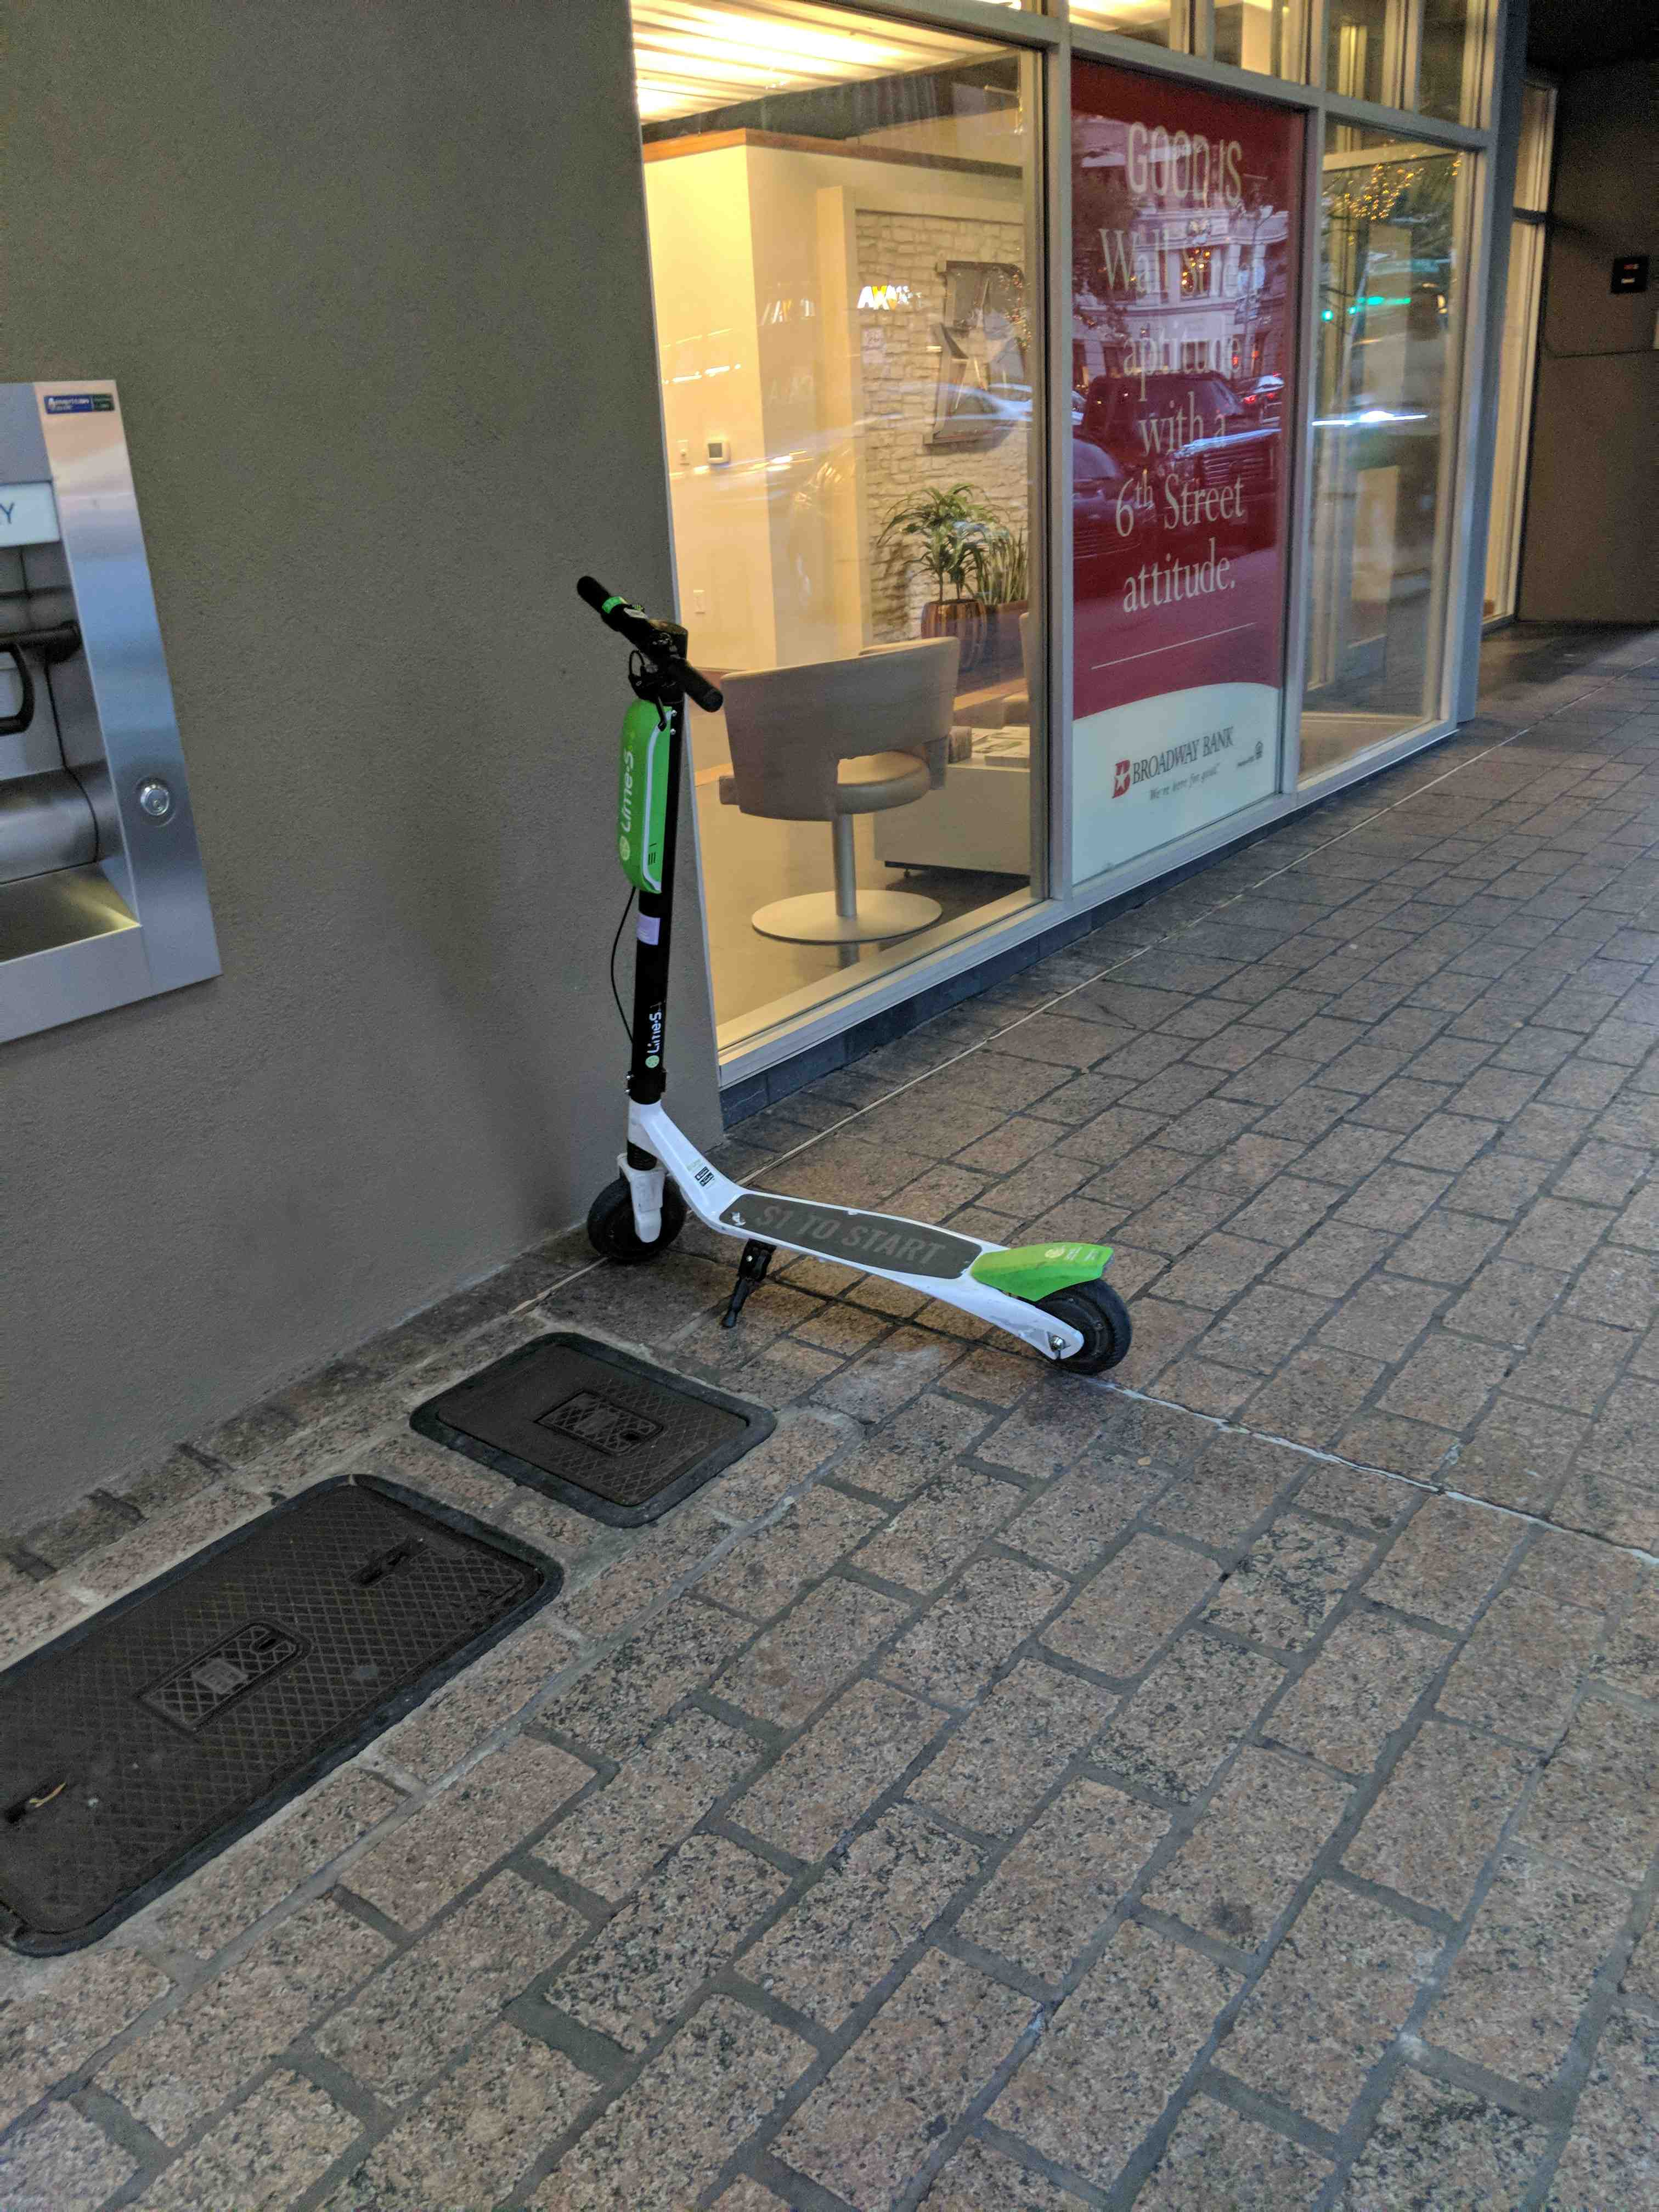scooter: (532, 578, 1161, 1402)
